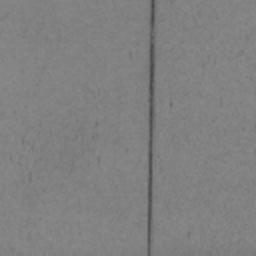Scratches: (146, 0, 156, 253)
